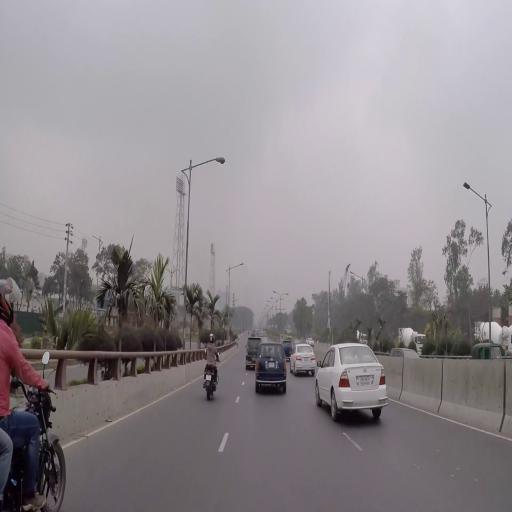car: (317, 345, 390, 421), (255, 343, 289, 395), (290, 344, 317, 374), (306, 338, 315, 345)
minivan: (246, 338, 263, 369)
motorbike: (2, 364, 69, 512), (202, 357, 219, 402)
suv: (284, 341, 294, 363)
three wheelers (CNG): (472, 342, 503, 360)
truck: (475, 321, 512, 353), (399, 326, 425, 353), (358, 331, 368, 343)
